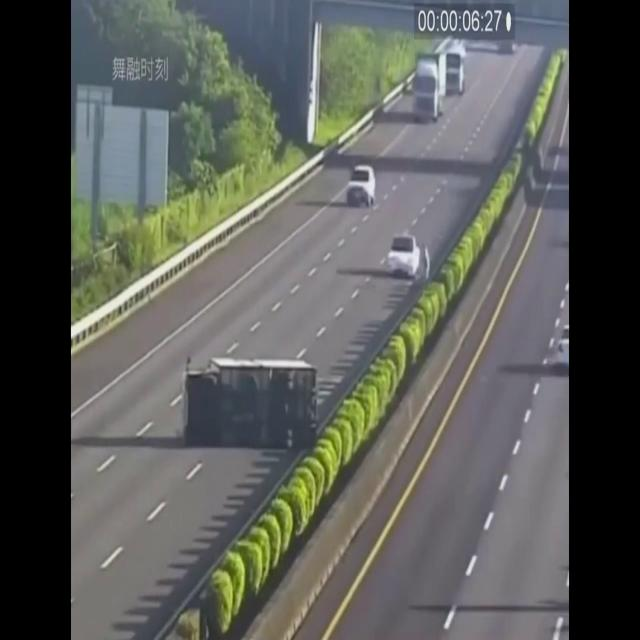accident: (182, 356, 352, 490)
non-accident: (408, 41, 466, 122)
